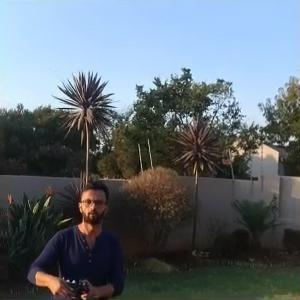follow: (26, 172, 130, 299)
